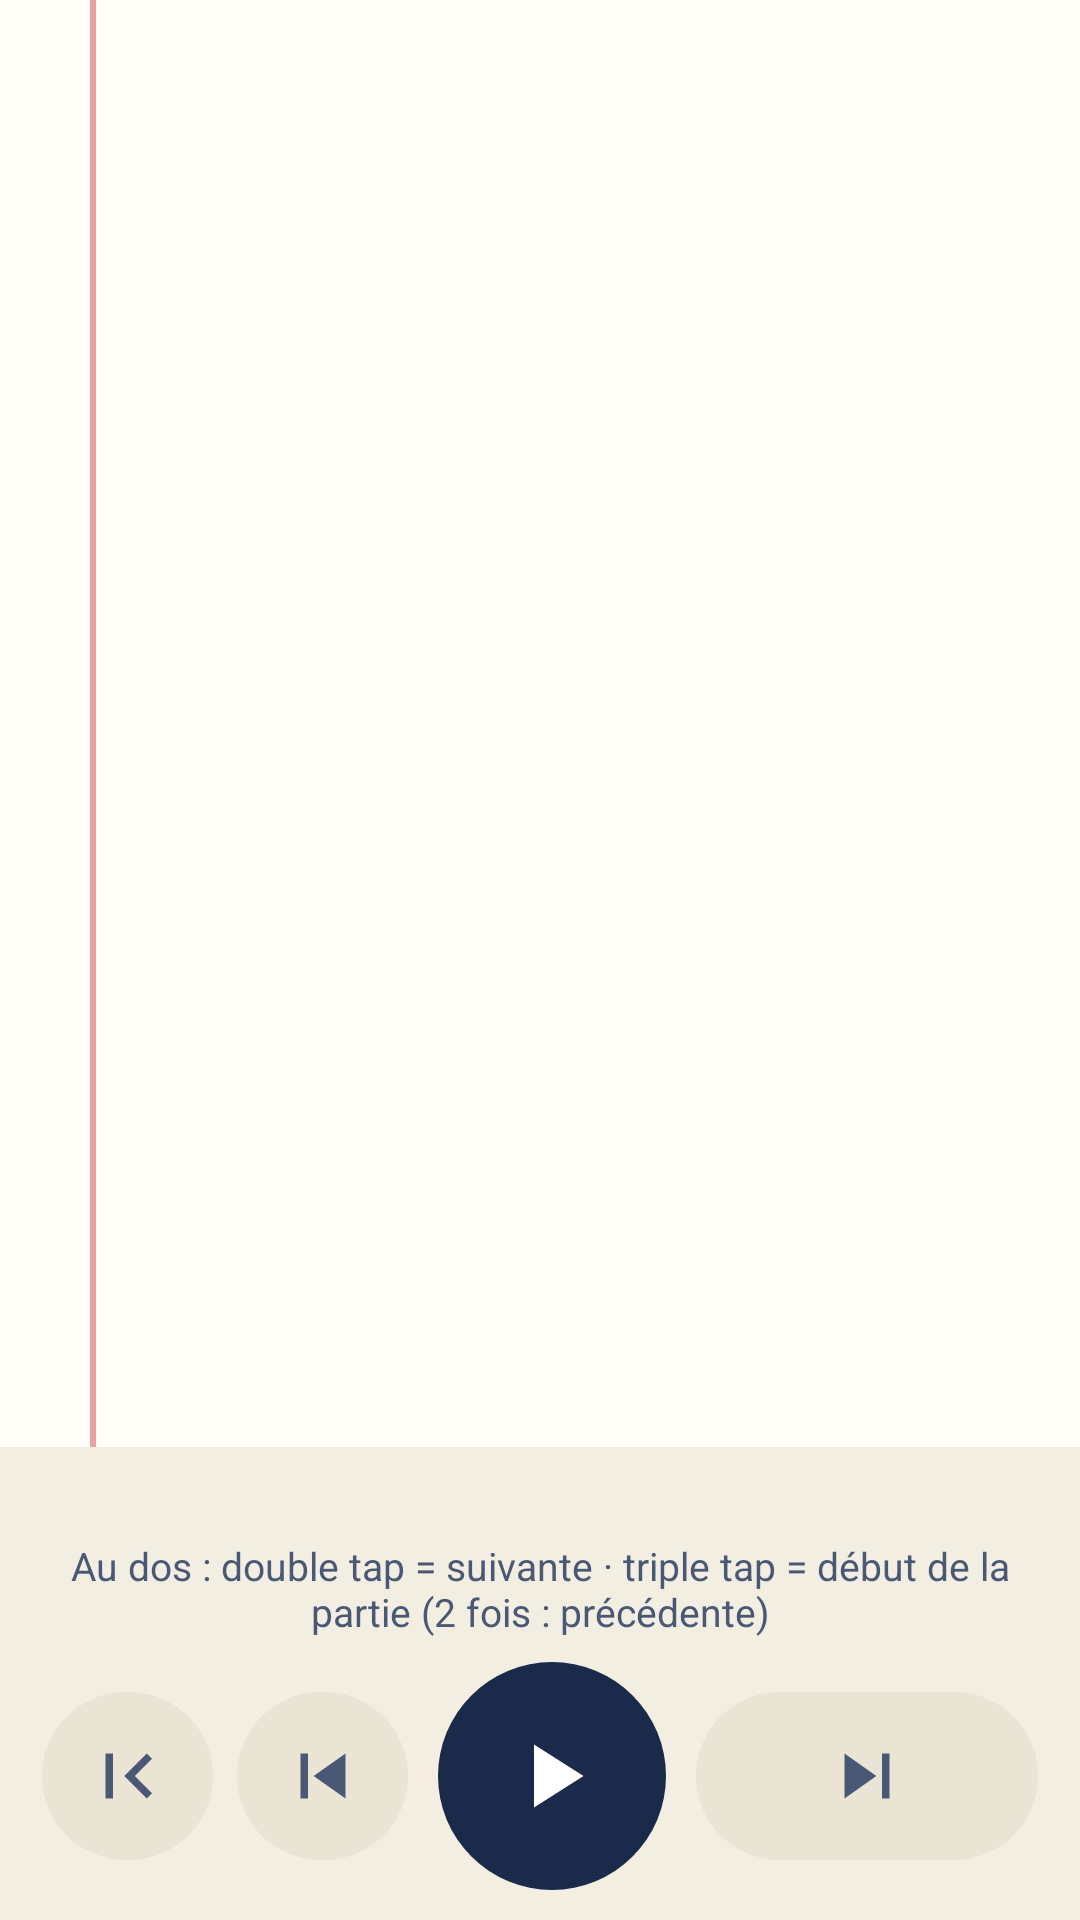

Icons on this 1080×1920 Android screen, each with its box as (x1, y1, x2, y2):
Lire: (438, 1662, 666, 1890)
